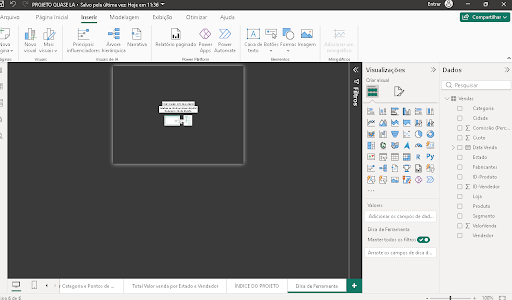

The page's visual inventory and layout, read from the dashboard file:
{"tool":"powerbi","page":{"name":"faixas de Vendas  Por Categoria e Pontos de Vendas","canvas":[1280,720],"ordinal":3},"visuals":[{"type":"ribbonChart","fields":{"Category":["Vendas.Categoria"],"Y":["Sum(Vendas.ValorVenda)"],"Series":["Vendas.Loja"]},"box":[57.6,27.3,1175.4,673.4],"z":0}]}

Visuals, with their boxes on the page's 1280x720 design canvas (x1, y1, x2, y2). These are canvas units, not pixel positions in the 512x300 screenshot, which may show the page scaled, cropped or inside an application window:
ribbonChart - Vendas.Categoria x Sum(Vendas.ValorVenda): {"left": 58, "top": 27, "right": 1233, "bottom": 701}
